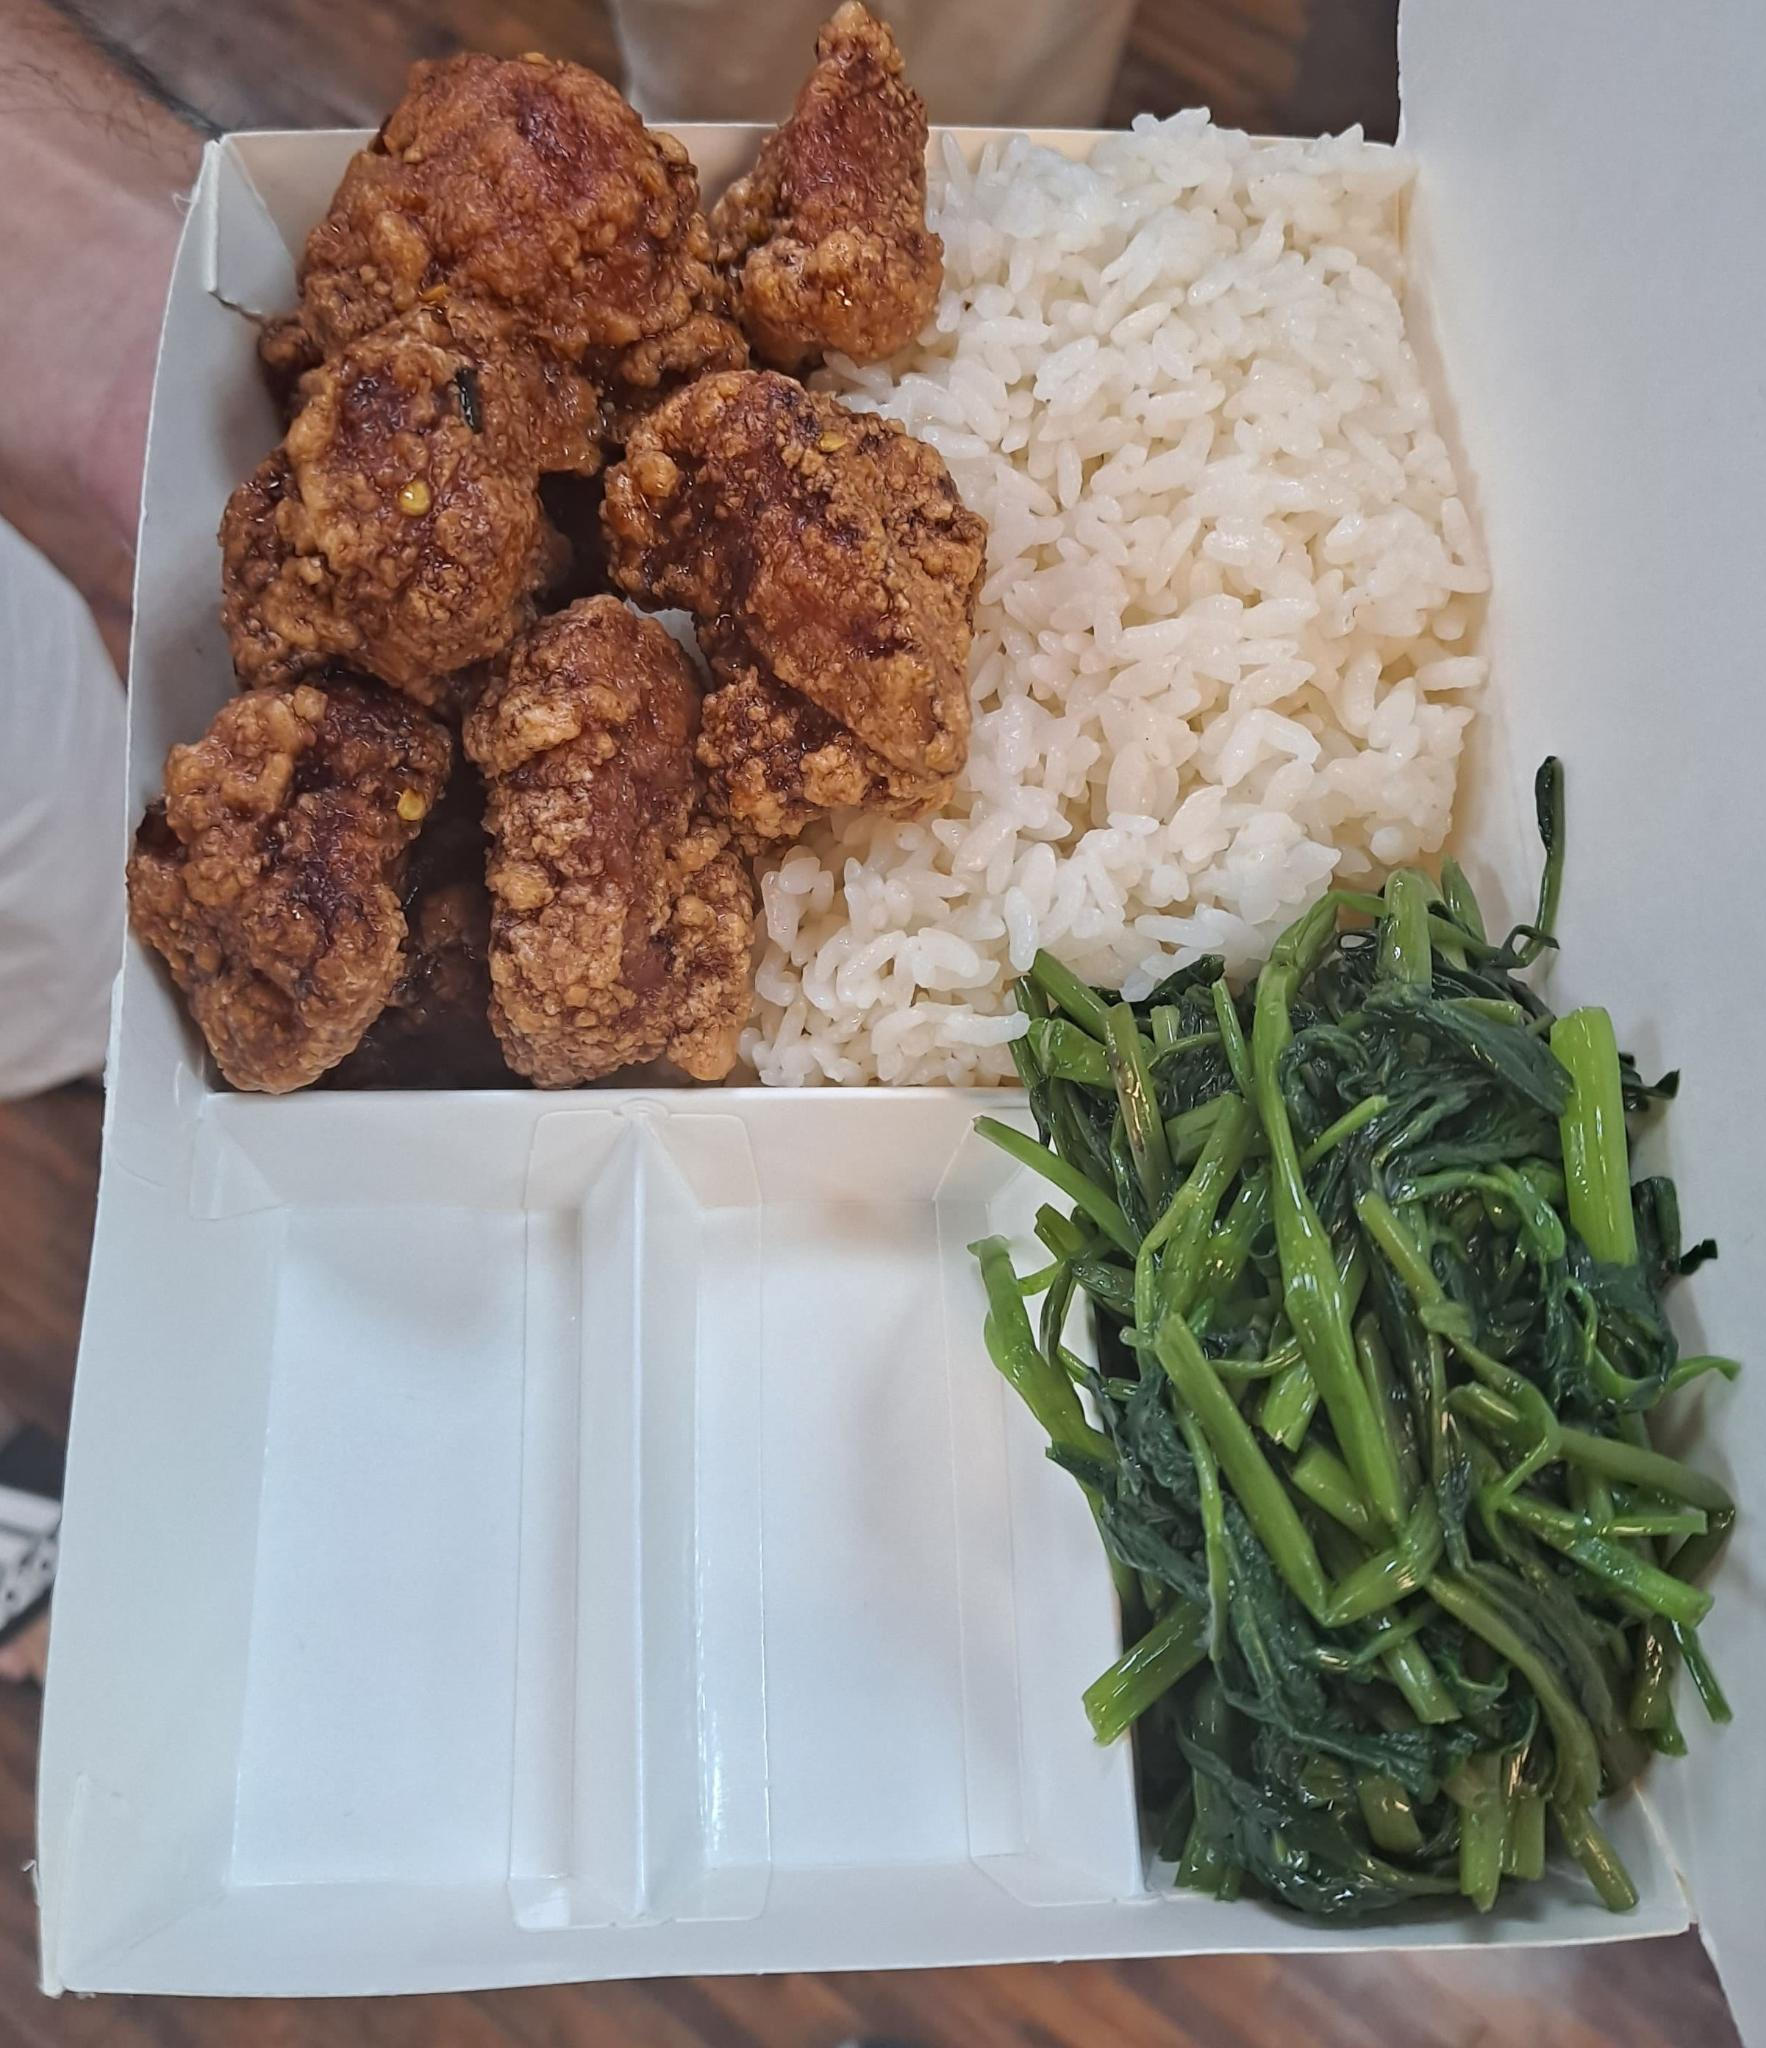big grilled chicken leg: (23, 70, 1688, 2014)
big herbal chicken leg: (756, 118, 1492, 1076)
braised fish fillet: (1005, 898, 1720, 1926)
braised pork: (109, 12, 980, 1096)
